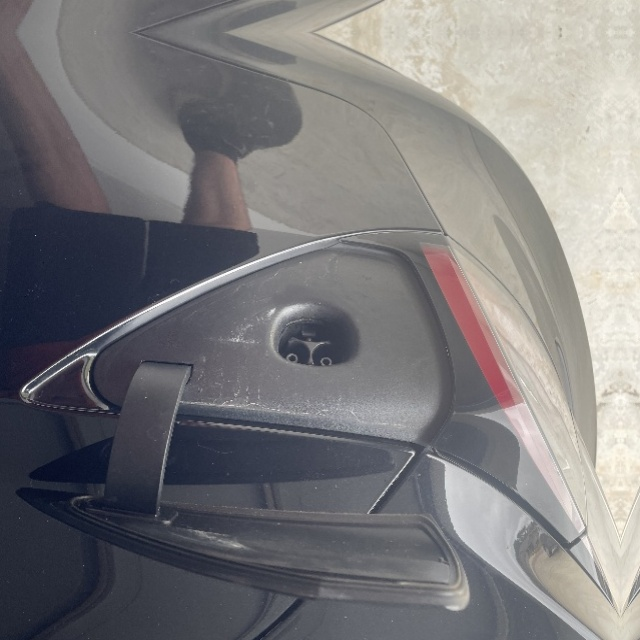port: (269, 302, 359, 367)
